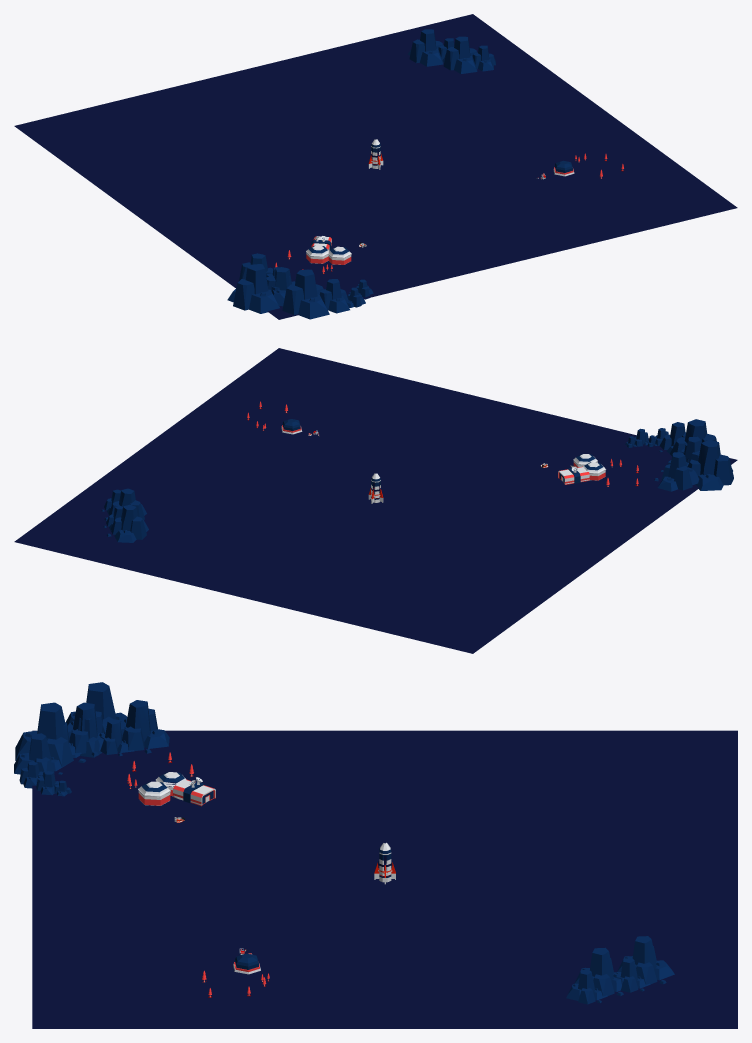
File: world.glb
3 views of the same model, one above another, from view 1: azimuth 30°, elevation 25°; view 2: azimuth 150°, elevation 25°; view 3: azimuth 270°, elevation 25° (orthographic). The views are drawn at different scales.
Parts seen in each view (by area): view 1: Plane, rock-b.005, rock-b.004, rock-b.006, gate; view 2: Plane, rock-b.005, rock-b.004, rock-b.006, gate, rock-b.002; view 3: Plane, rock-b.005, rock-b.004, rock-b.006, gate, rock-b.002, rocket_baseA.
Boxes of the visible parts, <box> form: Plane: <box>14,14,737,319</box>; rock-b.005: <box>227,264,349,319</box>; rock-b.004: <box>407,29,495,73</box>; rock-b.006: <box>239,253,295,305</box>; gate: <box>306,236,351,264</box>; Plane: <box>14,348,737,653</box>; rock-b.005: <box>659,419,733,490</box>; rock-b.004: <box>101,488,148,542</box>; rock-b.006: <box>654,436,701,491</box>; gate: <box>558,454,606,484</box>; rock-b.002: <box>625,428,668,447</box>; Plane: <box>32,730,737,1028</box>; rock-b.005: <box>14,682,127,774</box>; rock-b.004: <box>566,936,674,1004</box>; rock-b.006: <box>62,700,169,756</box>; gate: <box>138,772,215,806</box>; rock-b.002: <box>19,761,71,796</box>; rocket_baseA: <box>374,842,395,884</box>.
Size of the model in its own units: 680 by 50.09 by 669.
